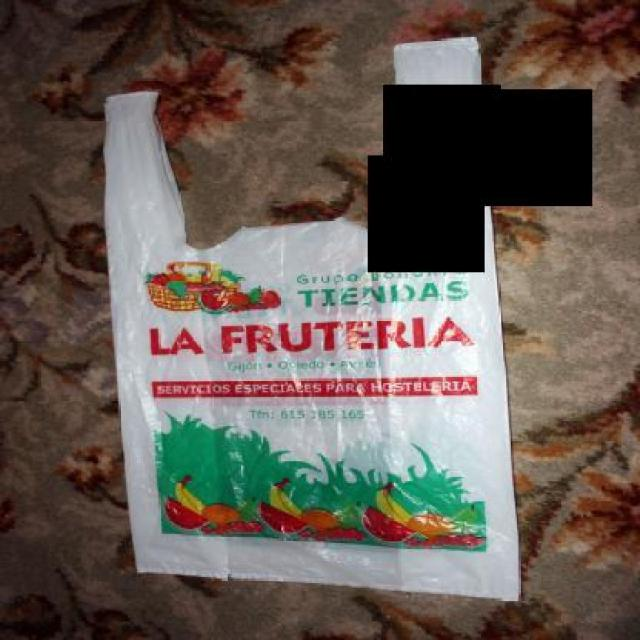plastic bag: (103, 34, 519, 600)
